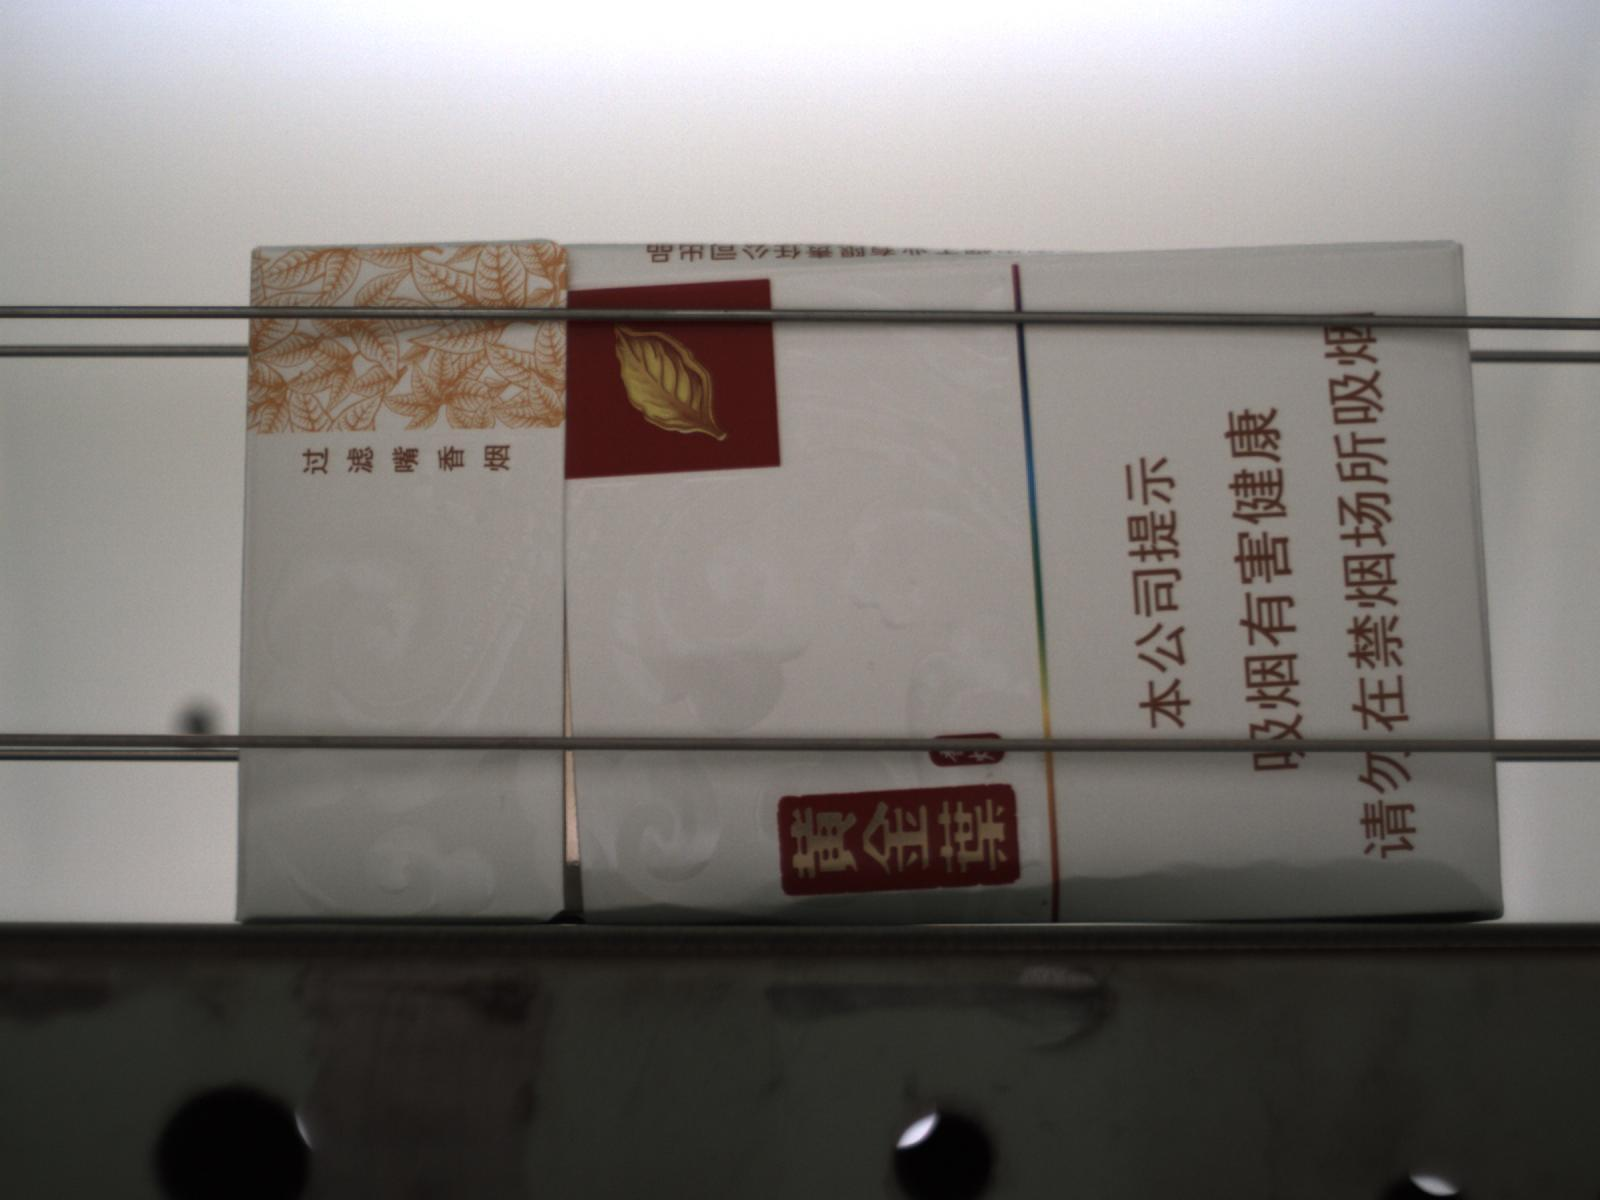boxDamage_slight: (580, 858, 1507, 924)
dirtySpot: (984, 771, 995, 780)
skewedOpen: (556, 572, 590, 921)
skewed_upper_0: (548, 238, 1187, 291)
